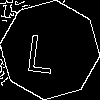L: (25, 25, 58, 74)
